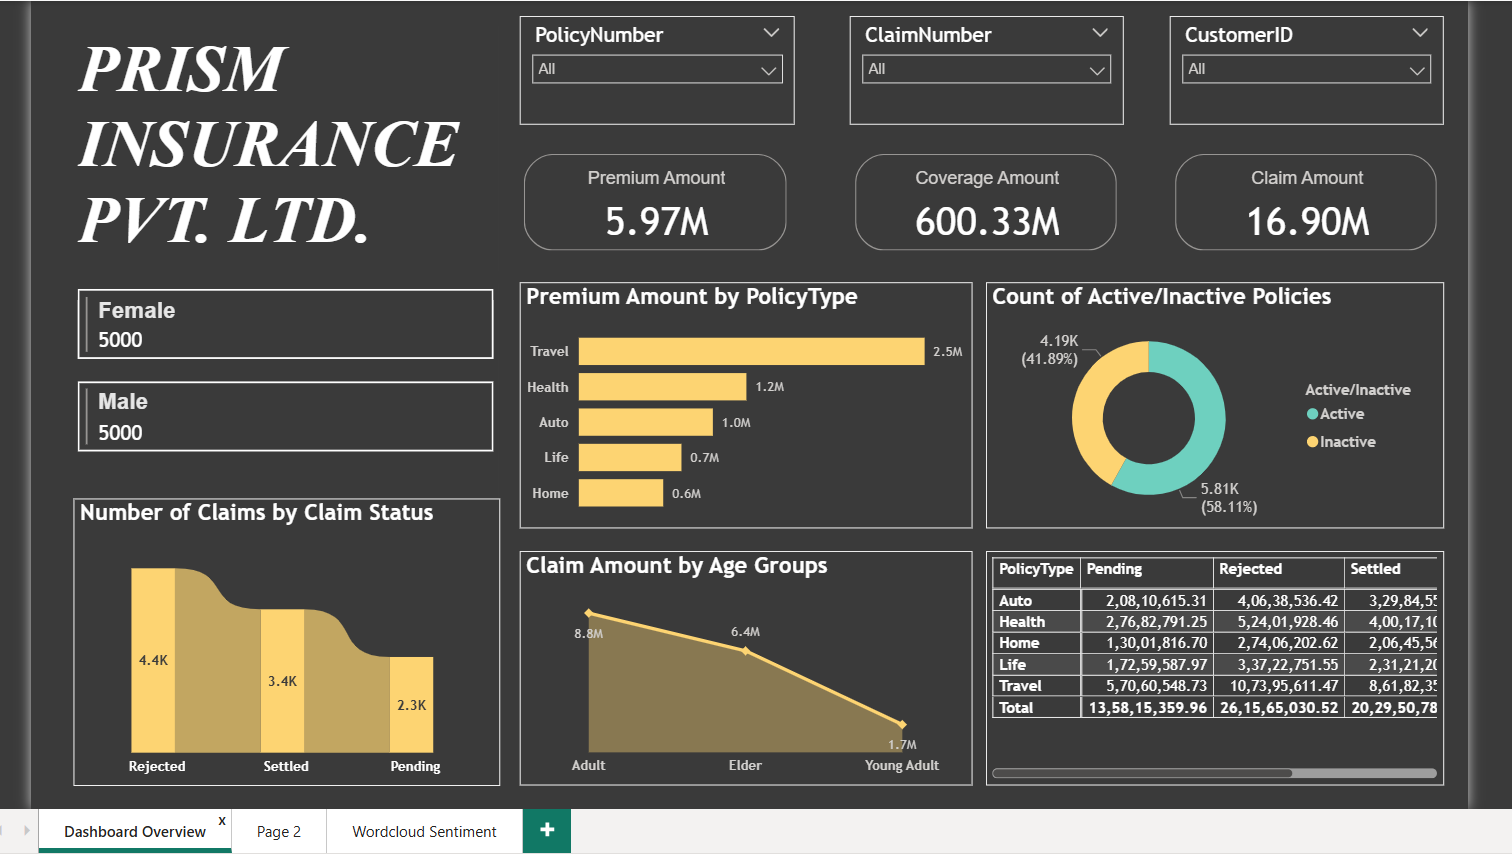

What the dashboard file says about the page in this screenshot:
{"tool":"powerbi","page":{"name":"Page 1","canvas":[1280,720],"ordinal":0},"visuals":[{"type":"slicer","fields":{"Values":["InsuranceData.PolicyNumber"]},"box":[435.5,13.3,244.9,96.5],"z":0},{"type":"slicer","fields":{"Values":["InsuranceData.ClaimNumber"]},"box":[728.7,13.3,243.7,96.5],"z":1000},{"type":"slicer","fields":{"Values":["InsuranceData.CustomerID"]},"box":[1014.6,13.3,243.7,96.5],"z":2000},{"type":"textbox","box":[37,22,380.1,218.2],"z":3000},{"type":"cardVisual","fields":{"Data":["Sum(InsuranceData.PremiumAmount)"]},"box":[434.3,131.5,244.9,96.5],"z":4000},{"type":"cardVisual","fields":{"Data":["Sum(InsuranceData.CoverageAmount)"]},"box":[728.7,131.5,243.7,96.5],"z":5000},{"type":"cardVisual","fields":{"Data":["Sum(InsuranceData.ClaimAmount)"]},"box":[1014.6,131.5,243.7,96.5],"z":6000},{"type":"multiRowCard","fields":{"Values":["InsuranceData.Gender","CountNonNull(InsuranceData.Gender)"]},"box":[37,251.1,380.1,192.1],"z":7000},{"type":"ribbonChart","title":"Number of Claims by Claim Status","fields":{"Category":["InsuranceData.ClaimStatus"],"Y":["CountNonNull(InsuranceData.ClaimStatus)"]},"box":[37.4,442.8,380,255.8],"z":8000},{"type":"barChart","title":"Premium Amount by PolicyType","fields":{"Category":["InsuranceData.PolicyType"],"Y":["Sum(InsuranceData.PremiumAmount)"]},"box":[435.5,250.9,403,219.6],"z":9000},{"type":"lineChart","title":"Claim Amount by Age Groups ","fields":{"Category":["InsuranceData.Age Groups "],"Y":["Sum(InsuranceData.ClaimAmount)"]},"box":[435.5,489.8,403,208.7],"z":10000},{"type":"donutChart","title":"Count of Active/Inactive Policies","fields":{"Category":["InsuranceData.Active/Inactive"],"Y":["CountNonNull(InsuranceData.Active/Inactive)"]},"box":[850.5,250.9,407.8,219.6],"z":11000},{"type":"pivotTable","fields":{"Rows":["InsuranceData.PolicyType"],"Values":["Sum(InsuranceData.CoverageAmount)"],"Columns":["InsuranceData.ClaimStatus"]},"box":[850.5,489.8,407.8,208.7],"z":12000}]}

Visuals, with their boxes on the page's 1280x720 design canvas (x1, y1, x2, y2). These are canvas units, not pixel positions in the 1512x854 screenshot, which may show the page scaled, cropped or inside an application window:
slicer - InsuranceData.PolicyNumber: [left=436, top=13, right=680, bottom=110]
slicer - InsuranceData.ClaimNumber: [left=729, top=13, right=972, bottom=110]
slicer - InsuranceData.CustomerID: [left=1015, top=13, right=1258, bottom=110]
textbox: [left=37, top=22, right=417, bottom=240]
cardVisual - Sum(InsuranceData.PremiumAmount): [left=434, top=132, right=679, bottom=228]
cardVisual - Sum(InsuranceData.CoverageAmount): [left=729, top=132, right=972, bottom=228]
cardVisual - Sum(InsuranceData.ClaimAmount): [left=1015, top=132, right=1258, bottom=228]
multiRowCard - InsuranceData.Gender x CountNonNull(InsuranceData.Gender): [left=37, top=251, right=417, bottom=443]
"Number of Claims by Claim Status" ribbonChart: [left=37, top=443, right=417, bottom=699]
"Premium Amount by PolicyType" barChart: [left=436, top=251, right=838, bottom=470]
"Claim Amount by Age Groups " lineChart: [left=436, top=490, right=838, bottom=698]
"Count of Active/Inactive Policies" donutChart: [left=850, top=251, right=1258, bottom=470]
pivotTable - InsuranceData.PolicyType x Sum(InsuranceData.CoverageAmount): [left=850, top=490, right=1258, bottom=698]
